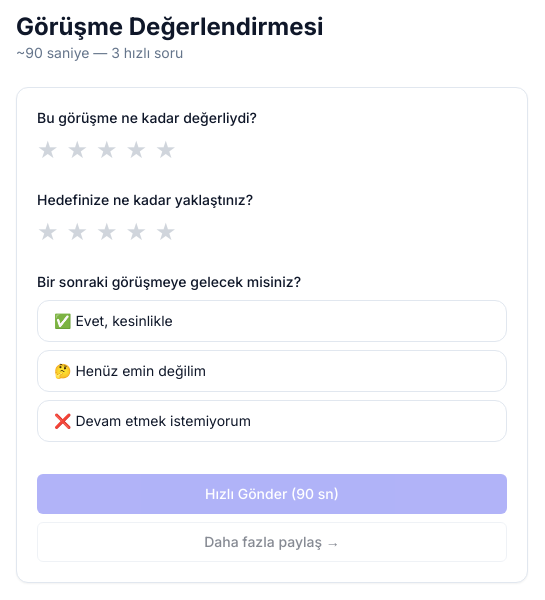
Check-in sayfası — kutlama sayısı (AJ-33) › 10. görüşmenin check-in'i 10. eşik kutlamasını gösterir
Click the 5th button "★". click: click(166, 150)
box: x1=155 y1=134 x2=177 y2=166
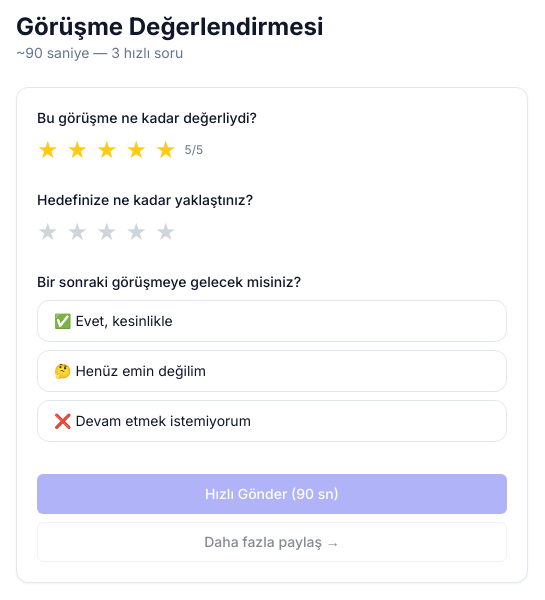
Click the 10th button "★". click: click(166, 232)
box: x1=155 y1=216 x2=177 y2=248
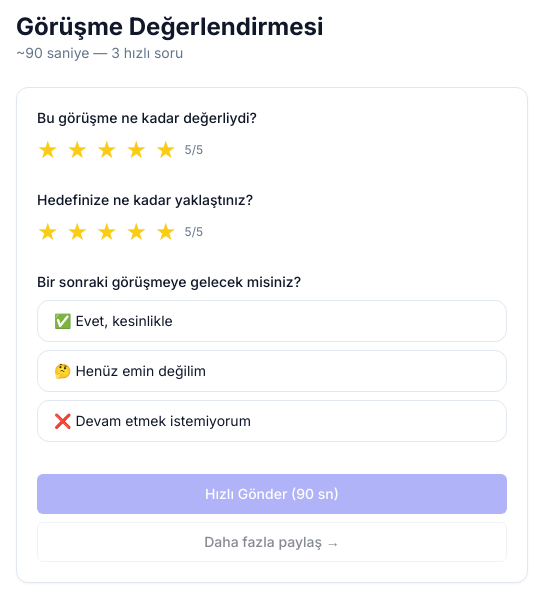
Click the button "✅ Evet, kesinlikle". click: click(113, 320)
box: x1=37 y1=300 x2=507 y2=342
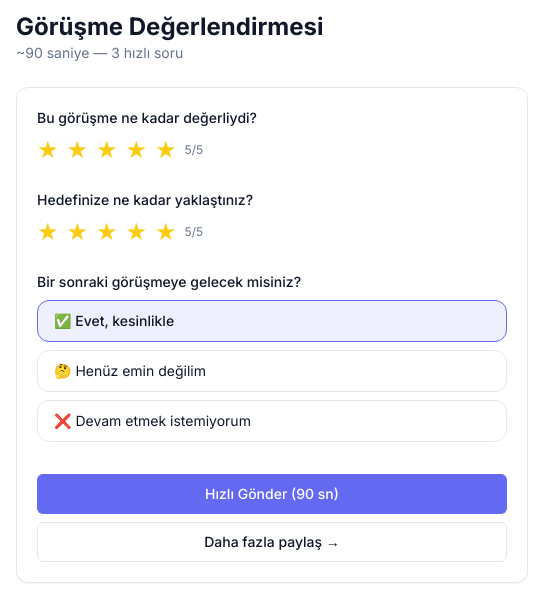
Click the button "Hızlı Gönder (90 sn)". click: click(272, 494)
box: x1=37 y1=474 x2=507 y2=514
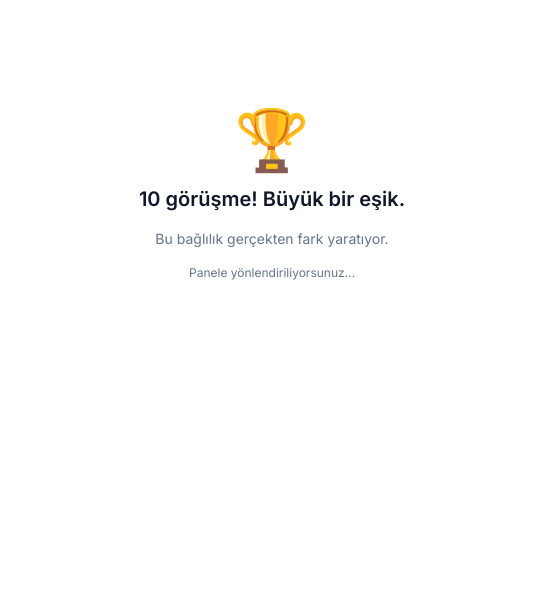
Check: the heading "10 görüşme! Büyük bir eşik." is shown, box x1=139 y1=185 x2=405 y2=213
